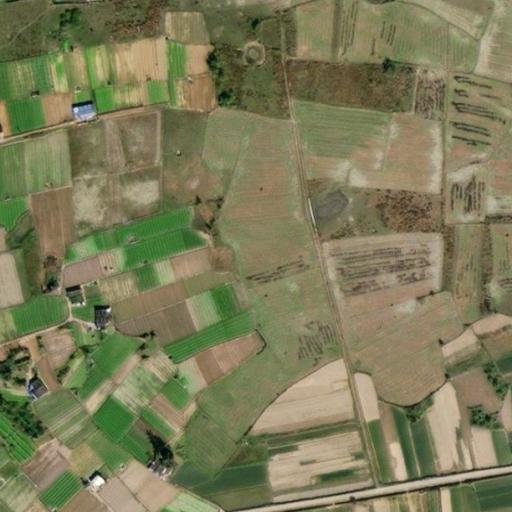building: (63, 103, 84, 119), (78, 474, 96, 492), (18, 380, 35, 398)
